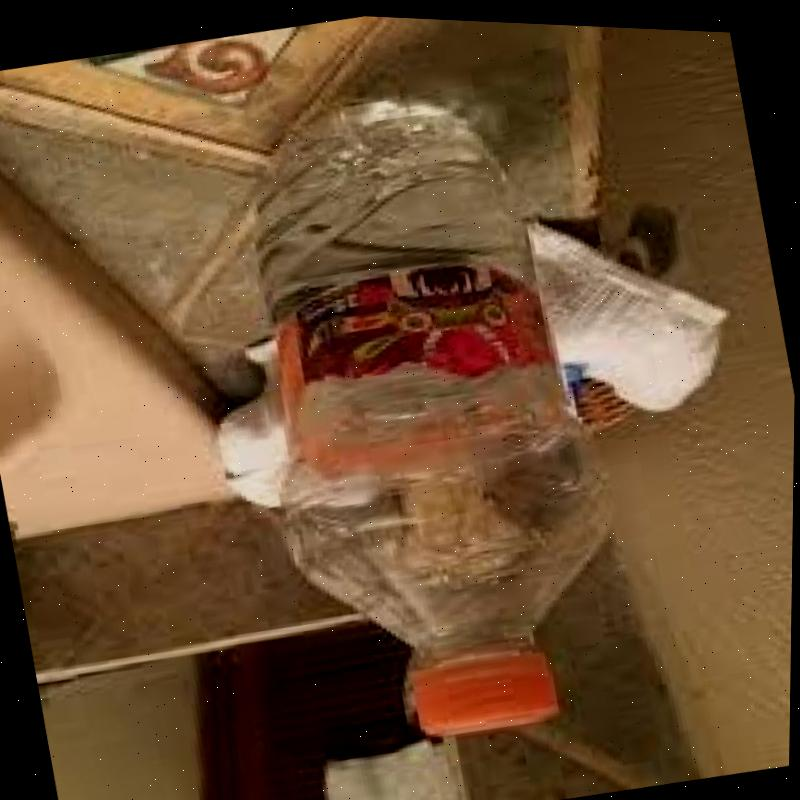botella: (206, 58, 664, 766)
